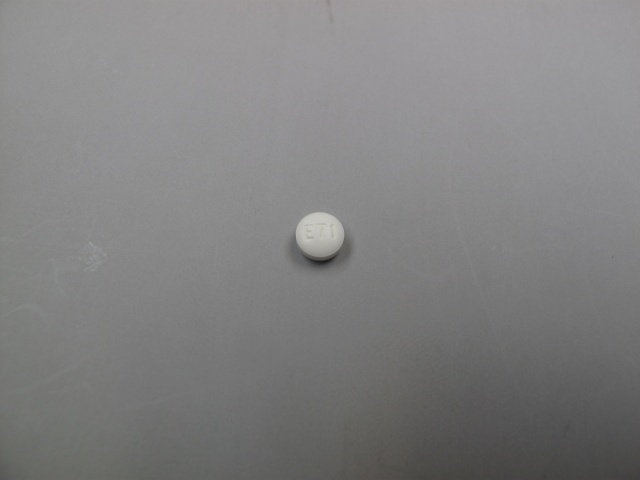1: (327, 221, 336, 241)
7: (315, 223, 328, 239)
E: (303, 224, 314, 241)
